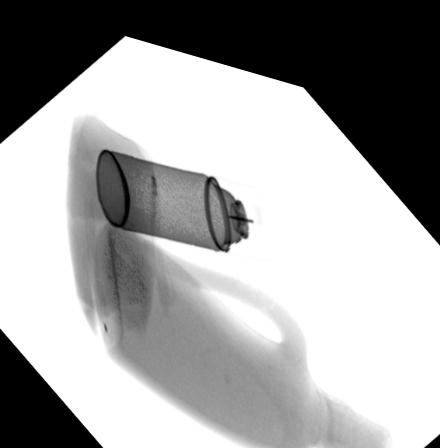Sprayer: (93, 141, 271, 247)
